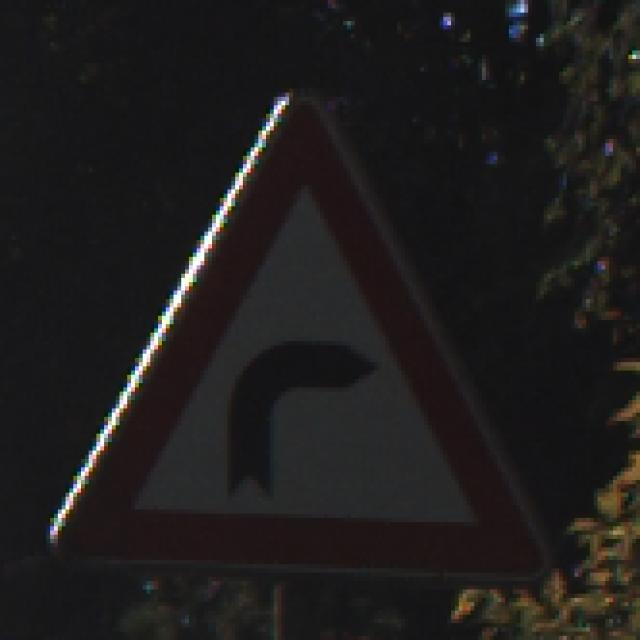right hand curve: (57, 96, 533, 579)
